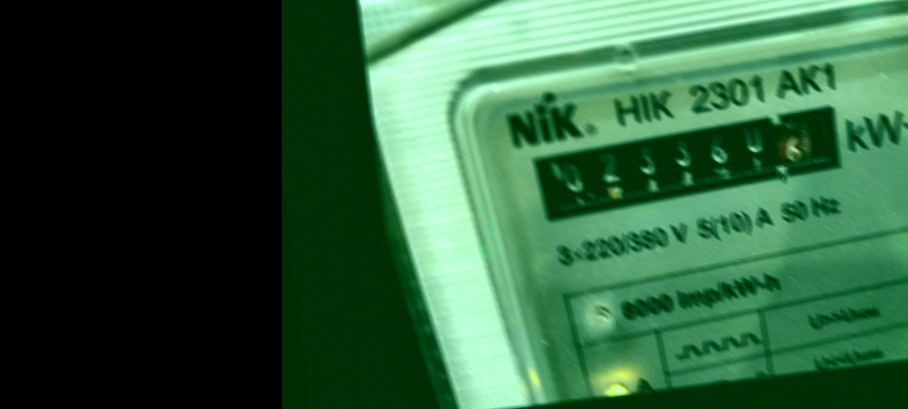0: (560, 159, 586, 195), (740, 122, 766, 156)
2: (598, 149, 622, 184)
3: (671, 133, 694, 168), (634, 144, 656, 177)
6: (706, 131, 731, 166), (781, 131, 806, 166)
screen: (515, 94, 862, 230)
